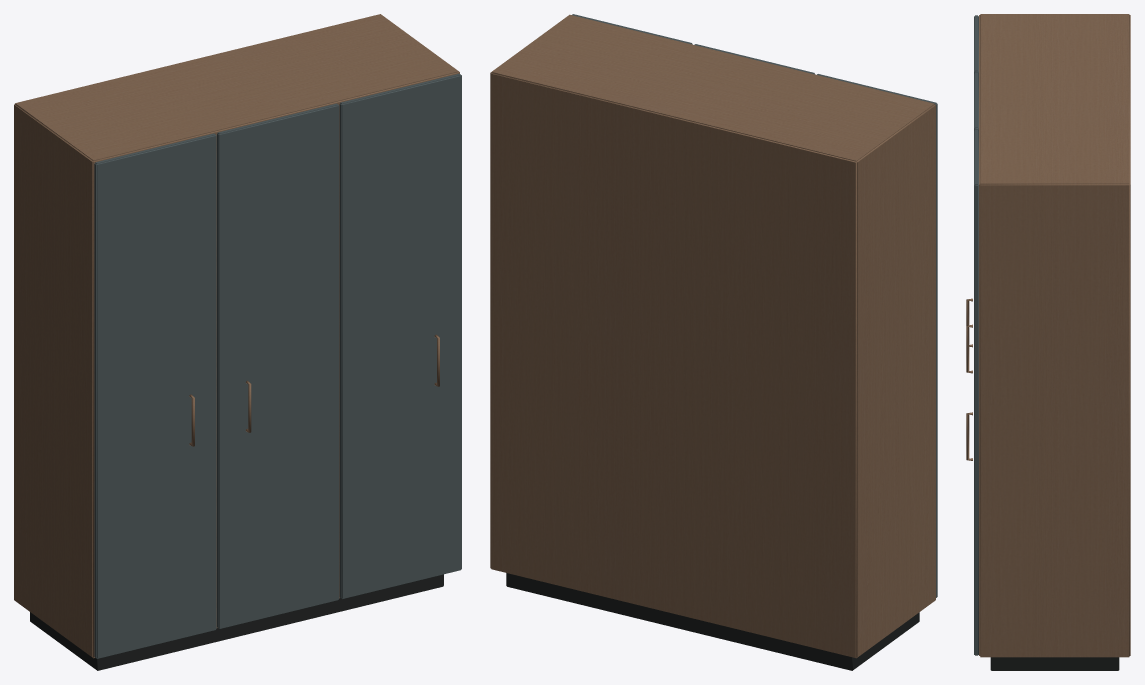
The model's file is industrial.wardrobe.gltf.
3 views of the same model, side by side, from view 1: azimuth 30°, elevation 25°; view 2: azimuth 150°, elevation 25°; view 3: azimuth 270°, elevation 25° (orthographic). The views are drawn at different scales.
Visible parts, largest first — view 1: industrial.wardrobe.carcass; view 2: industrial.wardrobe.carcass; view 3: industrial.wardrobe.carcass.
Part boxes in pixels (<box>): industrial.wardrobe.carcass: <box>14,14,461,670</box>; industrial.wardrobe.carcass: <box>490,14,937,670</box>; industrial.wardrobe.carcass: <box>966,14,1130,670</box>.
Bounding box in the file's own units: 1.6 × 2.15 × 0.6507.
Materials: 3 (1 with a texture image).
